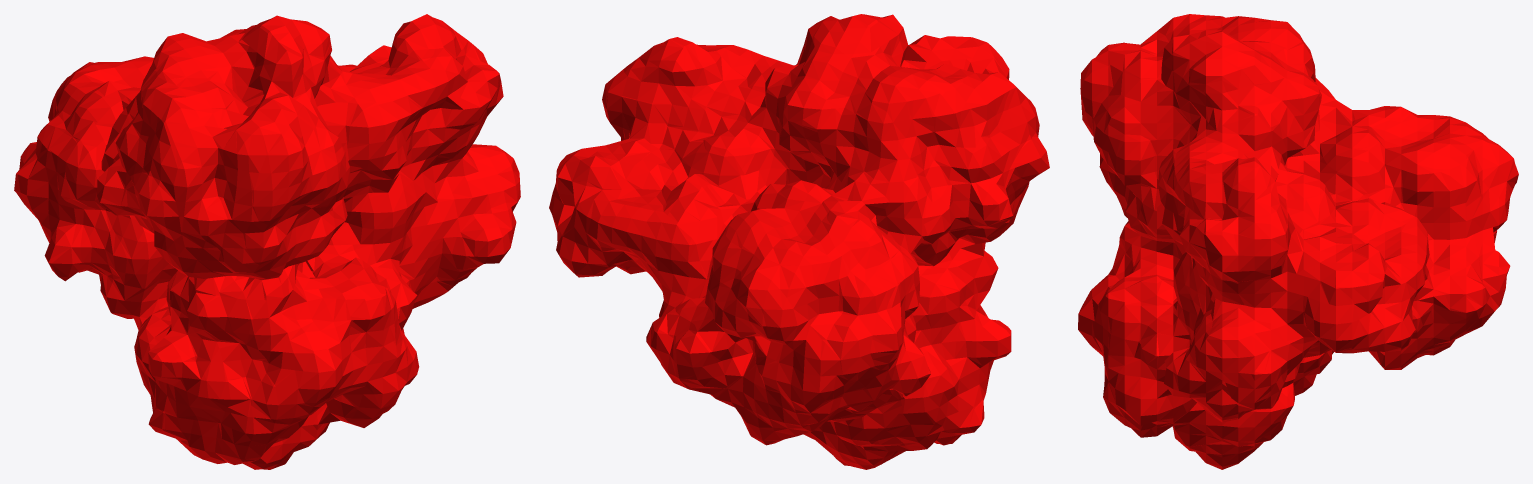
Rendered from sdhA_coarse.dae.
3 views of the same model, side by side, from view 1: azimuth 30°, elevation 25°; view 2: azimuth 150°, elevation 25°; view 3: azimuth 270°, elevation 25° (orthographic). The views are drawn at different scales.
Parts seen in each view (by area): view 1: sdhA; view 2: sdhA; view 3: sdhA.
Boxes of the visible parts, x1,y1,x2,y2 form: sdhA: (14, 14, 520, 469); sdhA: (549, 14, 1049, 469); sdhA: (1078, 14, 1518, 469).
Bounding box in the file's own units: 130 × 136 × 124.
